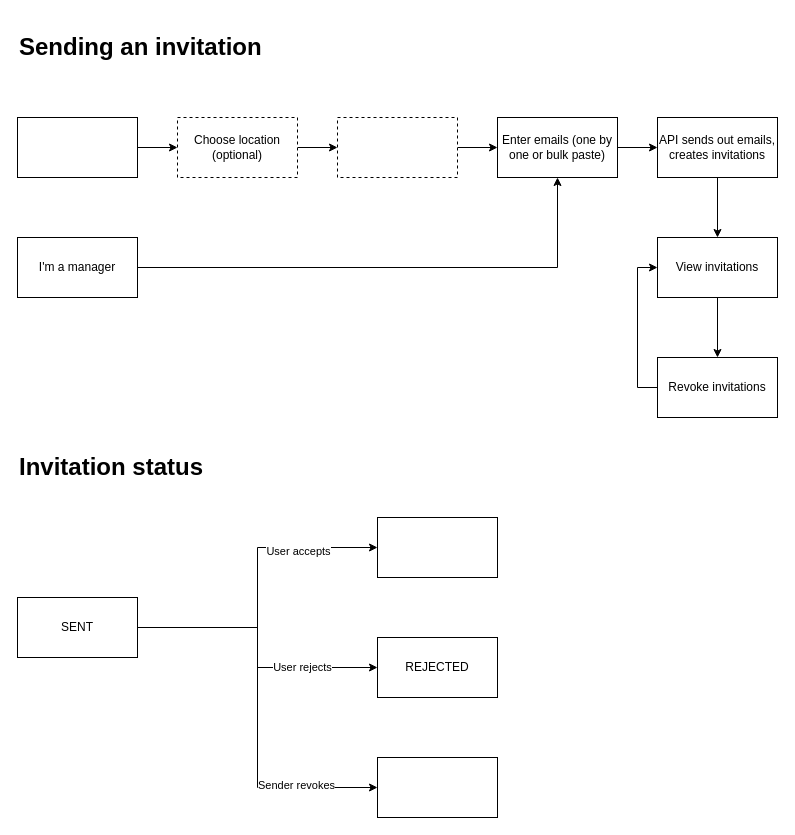
Some shapes in this 795 by 835 pixel diagram are drawn without their labels. The shapes that lost their labels are listed below. From the top down, each one's centre as x and y in pixels, then its label:
(77,147): I'm an owner
(397,147): Choose role: talent or manager (optional)
(437,547): ACCEPTED
(437,787): REVOKED
